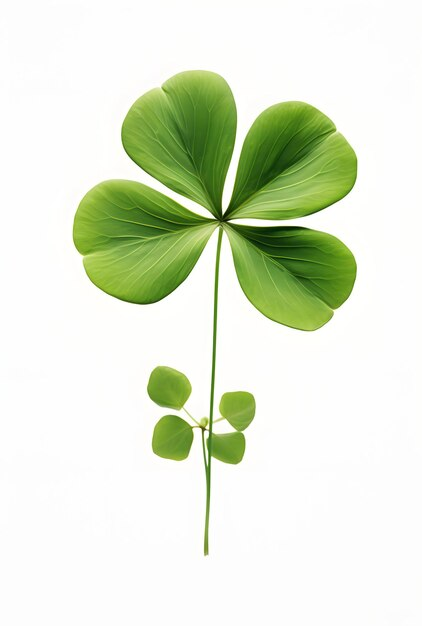daikon: (66, 64, 374, 561)
